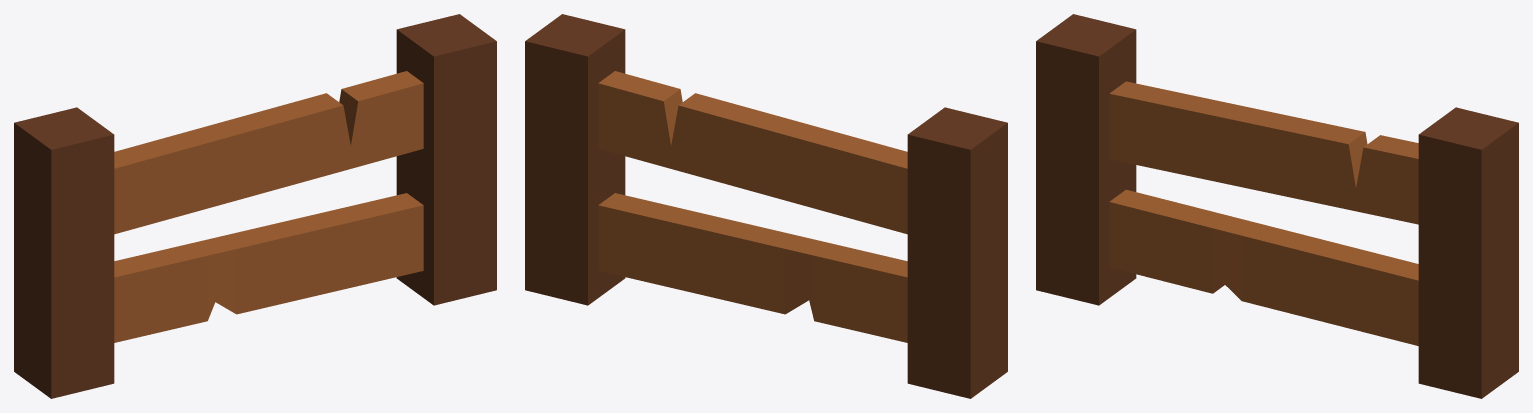
Rendered from fence.fbx.
The picture shows the model from 3 angles, left to right: view 1: azimuth 30°, elevation 25°; view 2: azimuth 150°, elevation 25°; view 3: azimuth 330°, elevation 25°; orthographic projection.
Visible parts, largest first — view 1: Cube.016, Cube.017; view 2: Cube.016, Cube.017; view 3: Cube.016, Cube.017.
Part boxes in pixels (x1,y1,x2,y2): Cube.016: [14, 14, 496, 398]; Cube.017: [114, 71, 423, 342]; Cube.016: [525, 14, 1007, 398]; Cube.017: [598, 71, 907, 342]; Cube.016: [1036, 14, 1518, 398]; Cube.017: [1109, 81, 1418, 345].
Bounding box in the file's own units: 333 × 178 × 48.09.
